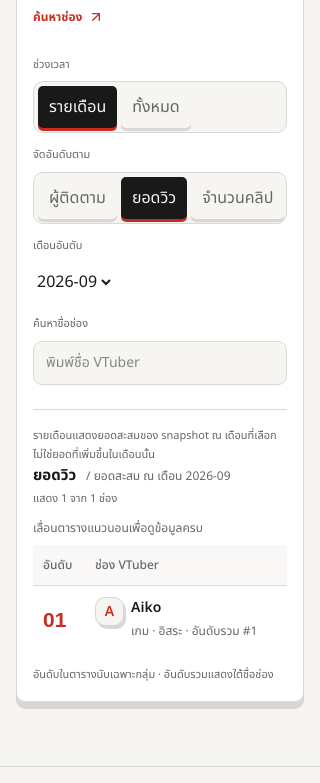
Test: Public stats journey › preserves ranking filters through a mobile search and profile round trip
(page scrolled)
Type "Aiko" into the search field with id "ranking-name-search". click: (160, 363)
box: [33, 341, 287, 385]
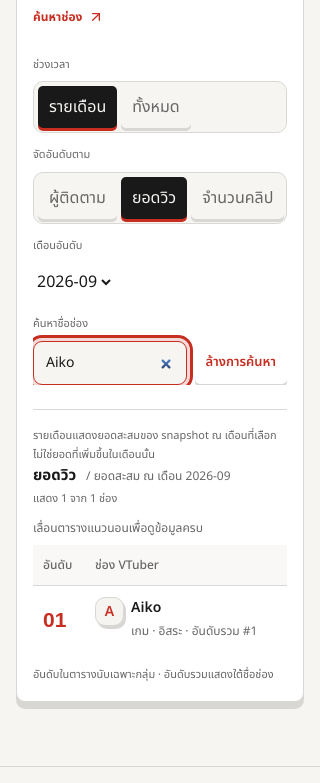
Check: the text "Aiko" is shown, box [131, 597, 161, 618]
Check: the button "ล้างการค้นหา" is shown, box [195, 342, 287, 384]
Click the link to "/profile/aiko". click: (146, 608)
box: [95, 597, 258, 640]
(page scrolled)
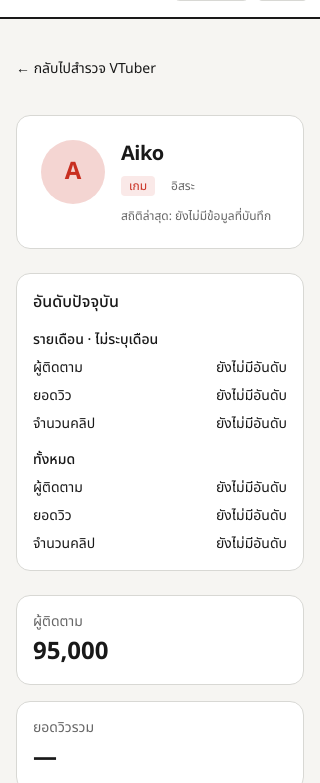
Click the link "← กลับไปสำรวจ VTuber". click: (86, 69)
box: [16, 58, 156, 79]
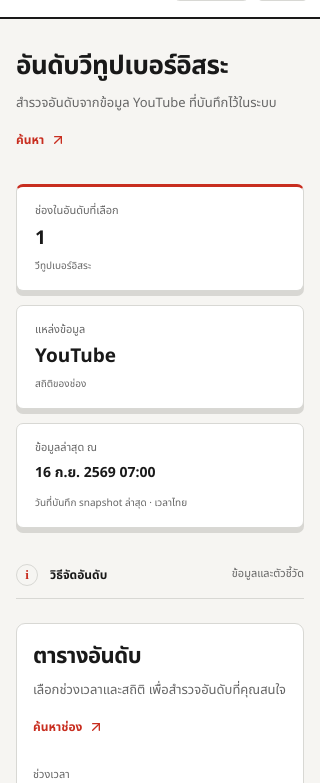
Scroll
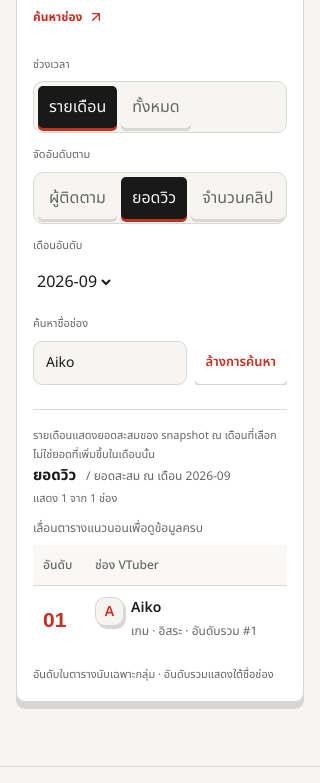
Replace the text in the search field with id "ranking-name-search" with "NotFound". click: (110, 363)
box: [33, 341, 187, 385]
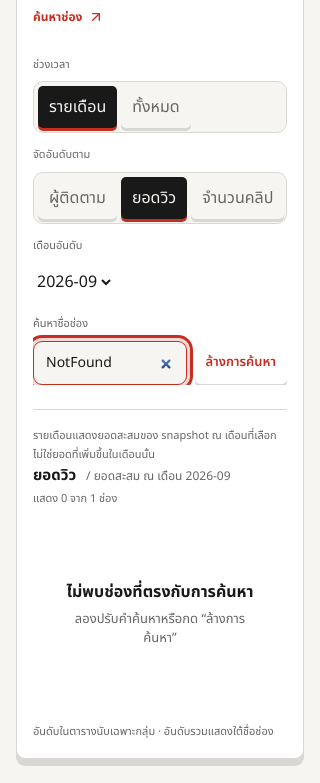
Check: the text "ไม่พบช่องที่ตรงกับการค้นหา" is shown, box [66, 580, 254, 604]
Click the button "ล้างการค้นหา". click: (241, 363)
box: [195, 342, 287, 384]
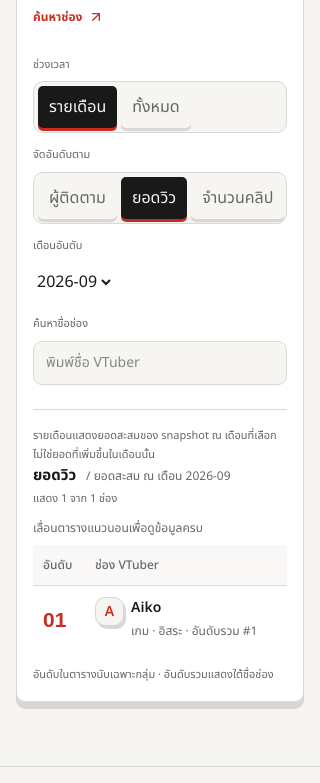
Check: the text "Aiko" is shown, box [131, 597, 161, 618]
